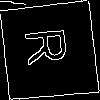R: (24, 26, 78, 66)
